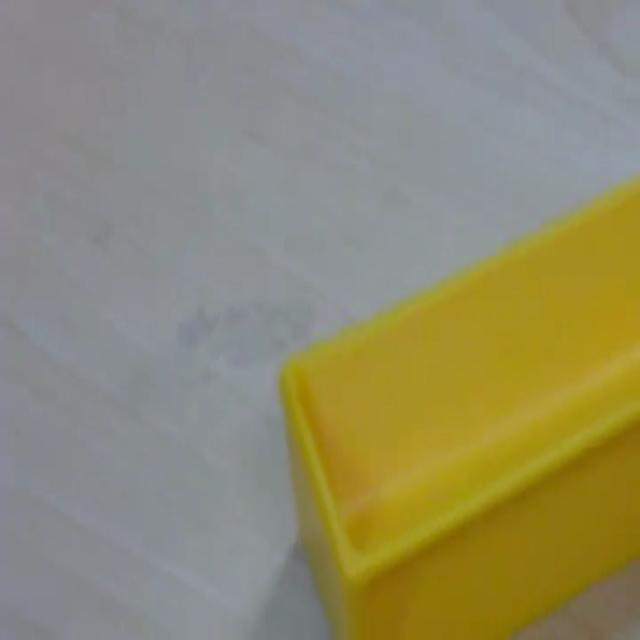yellow_block: (277, 172, 638, 636)
